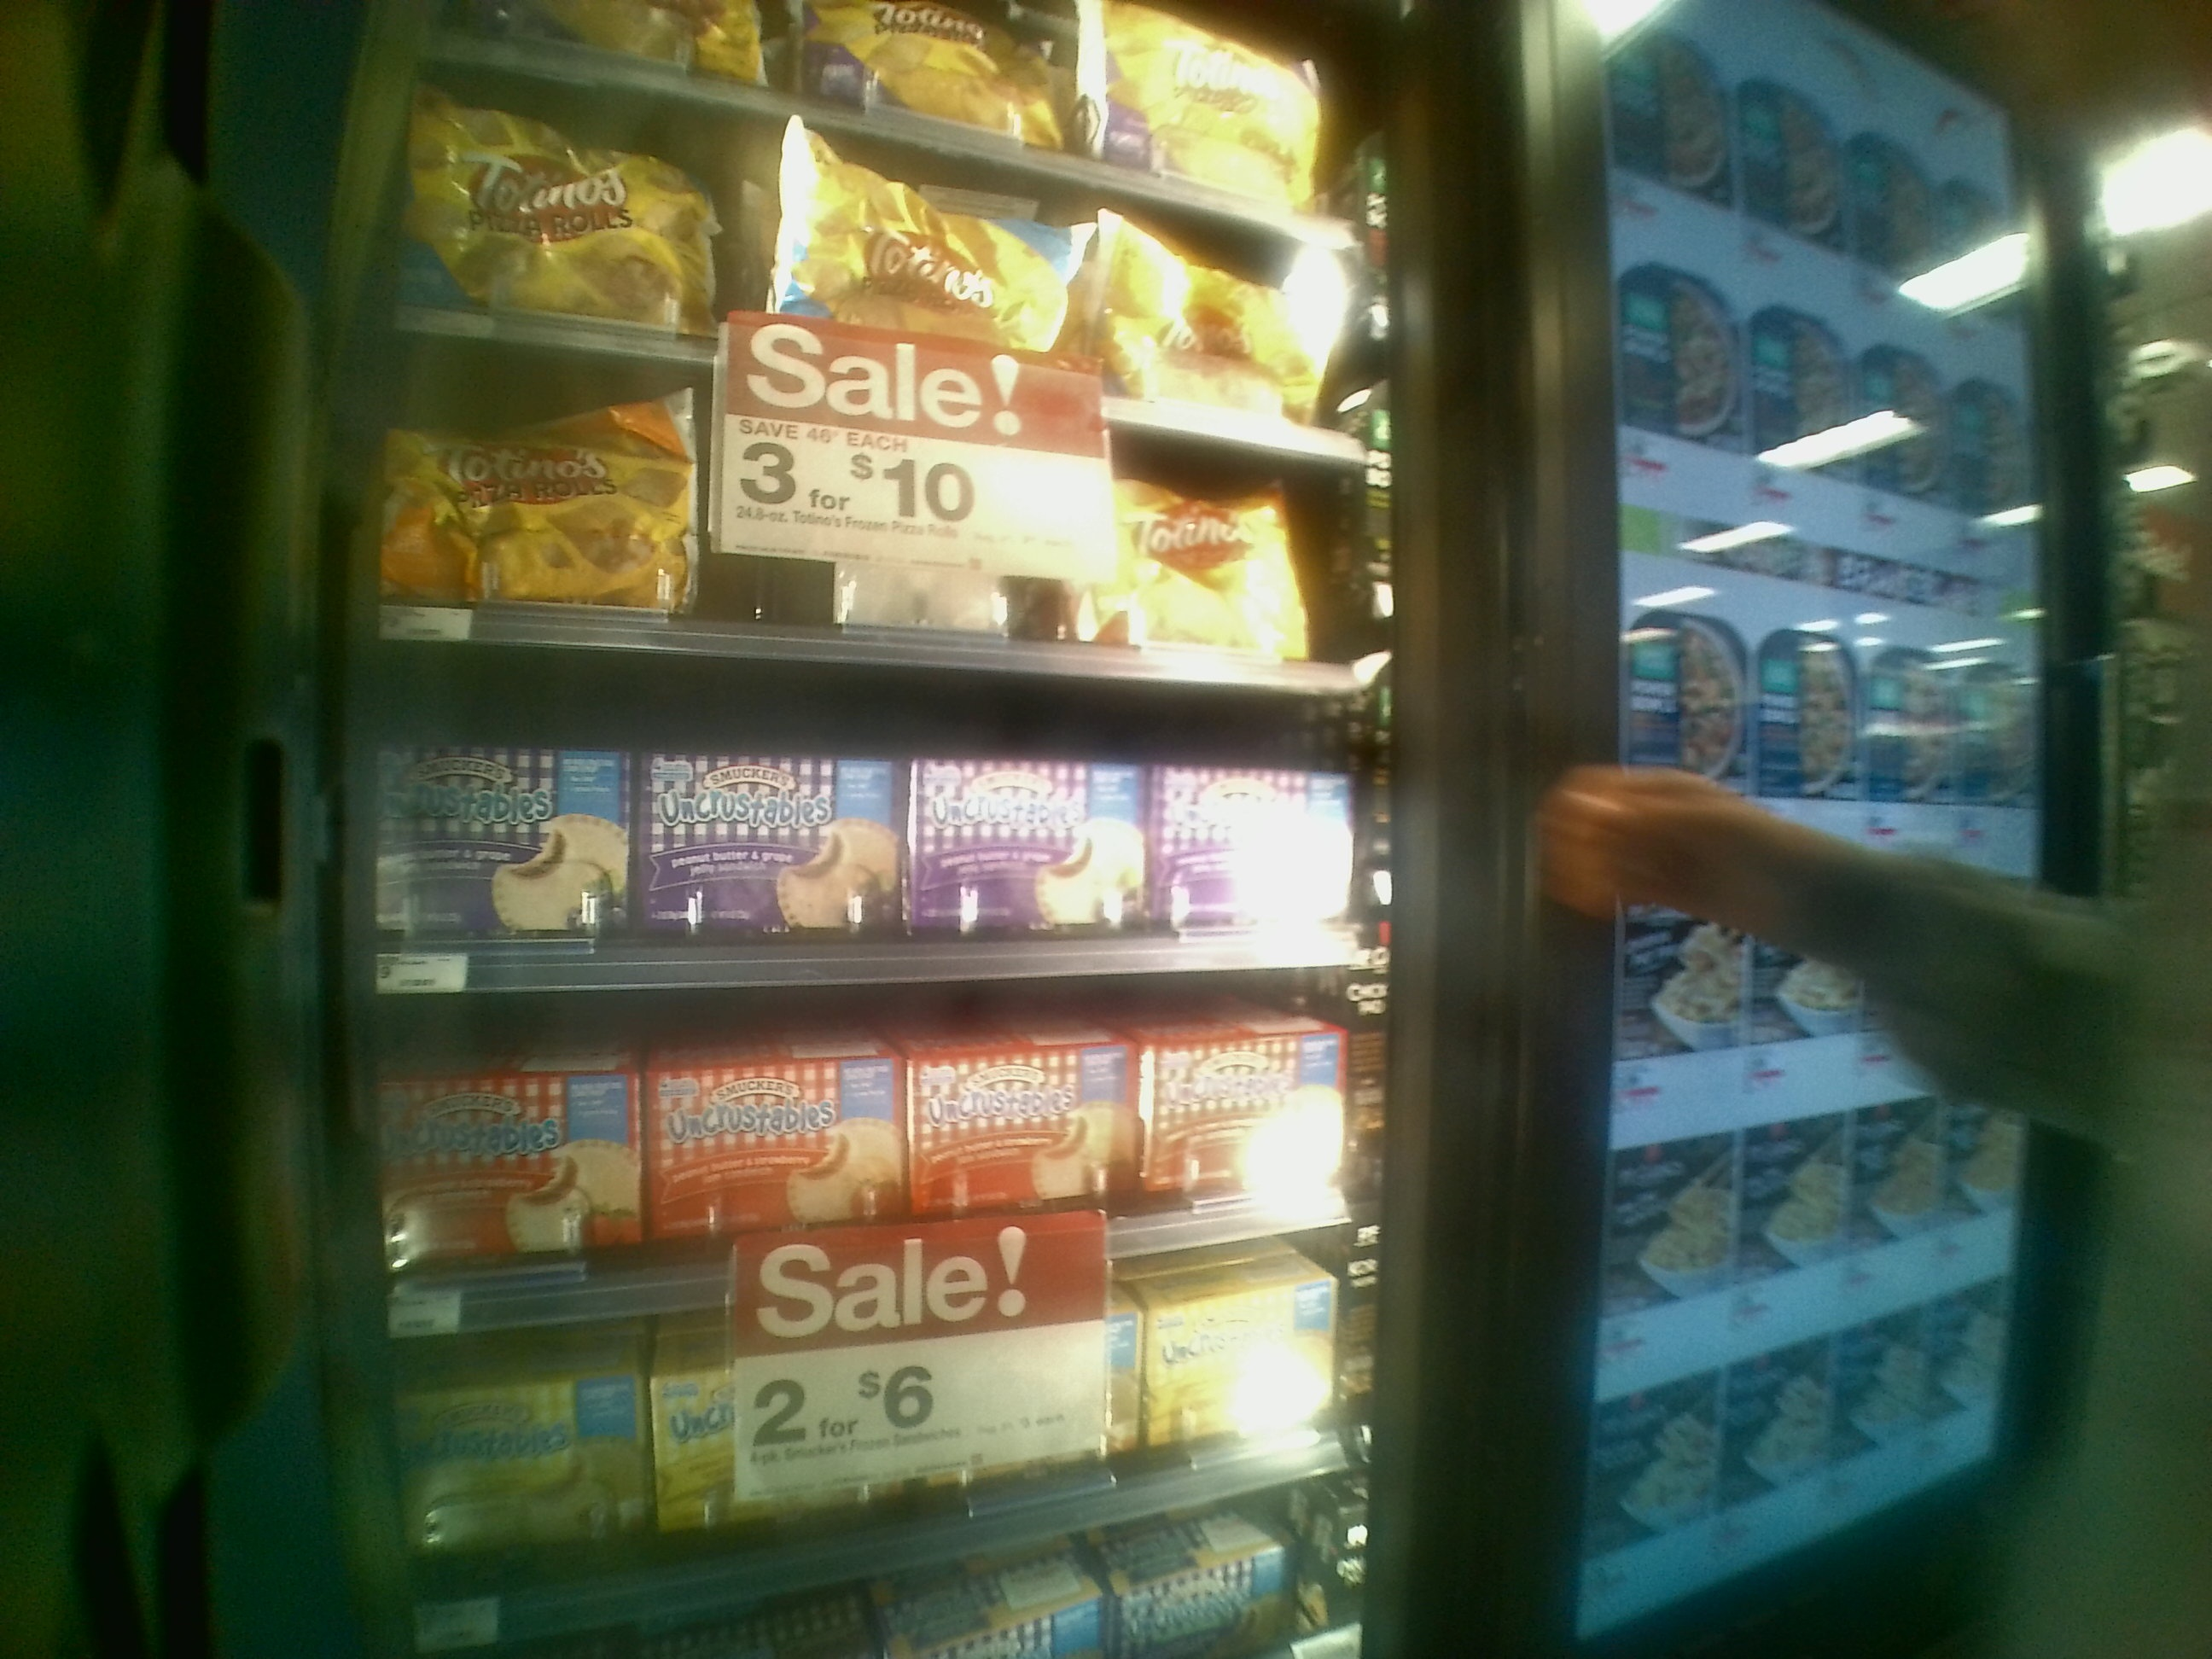shelf: (345, 322, 1406, 690), (327, 662, 1383, 981), (369, 1284, 1379, 1605), (338, 995, 1357, 1279)
